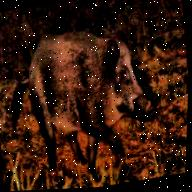boar: (19, 7, 167, 175)
